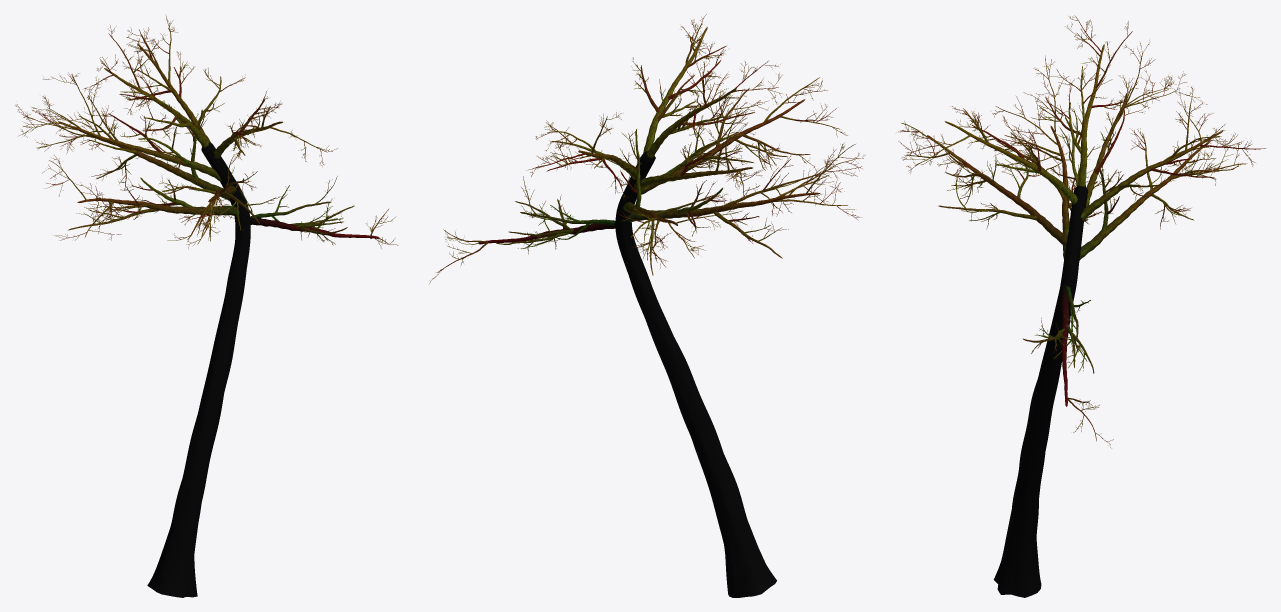
The model's file is sakura.glb.
3 views of the same model, side by side, from view 1: azimuth 30°, elevation 25°; view 2: azimuth 150°, elevation 25°; view 3: azimuth 270°, elevation 25° (orthographic). The views are drawn at different scales.
Visible parts, largest first — view 1: Bark; view 2: Bark; view 3: Bark.
Boxes of the visible parts, x1,y1,x2,y2 form: Bark: (15,16,398,597); Bark: (429,14,865,597); Bark: (898,15,1265,597).
Bounding box in the file's own units: 11.34 × 15.64 × 9.36.
Materials: 1 (1 with a texture image).
